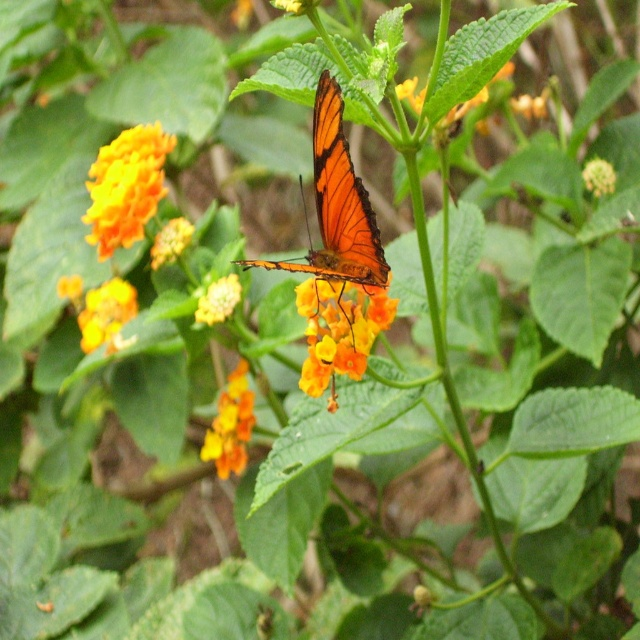Butterfly: (230, 69, 392, 354)
